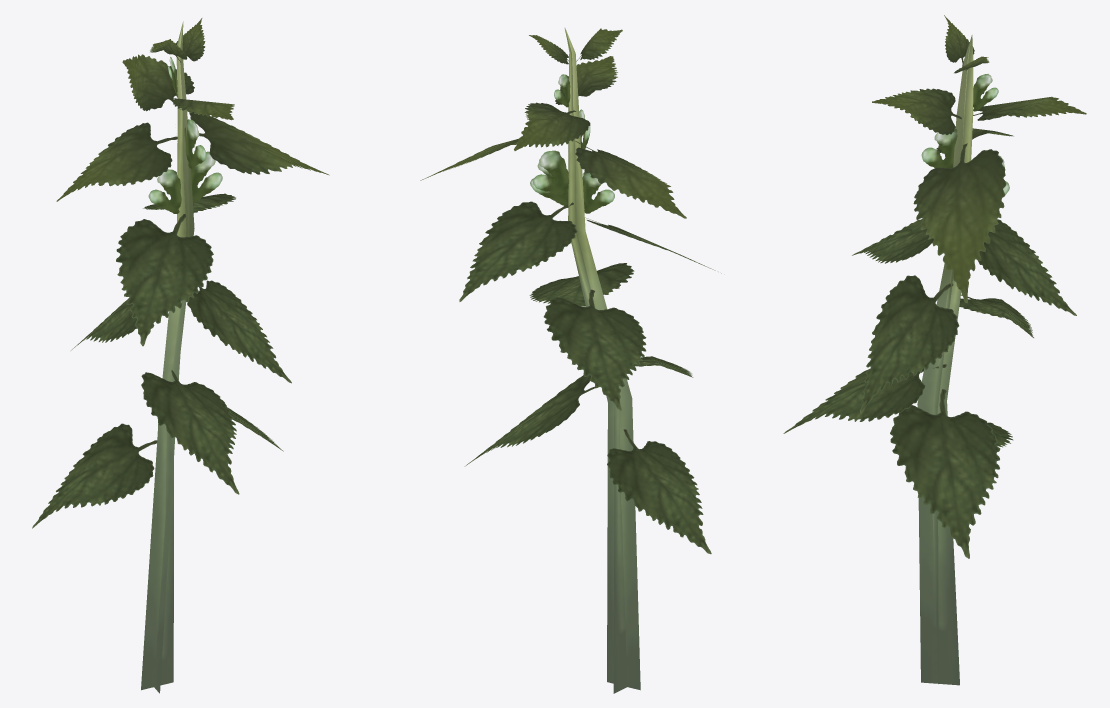
The model's file is arden_forest_nettle_01_foliage.fbx.
3 views of the same model, side by side, from view 1: azimuth 30°, elevation 25°; view 2: azimuth 150°, elevation 25°; view 3: azimuth 270°, elevation 25° (orthographic). The views are drawn at different scales.
Parts seen in each view (by area): view 1: arden_forest_nettle_01_foliage; view 2: arden_forest_nettle_01_foliage; view 3: arden_forest_nettle_01_foliage.
Part boxes in pixels (box(x1,y1,x2,y2)): arden_forest_nettle_01_foliage: box(32, 18, 329, 693); arden_forest_nettle_01_foliage: box(420, 28, 721, 693); arden_forest_nettle_01_foliage: box(783, 15, 1086, 685).
Bounding box in the file's own units: 30.54 × 62.13 × 26.37.
